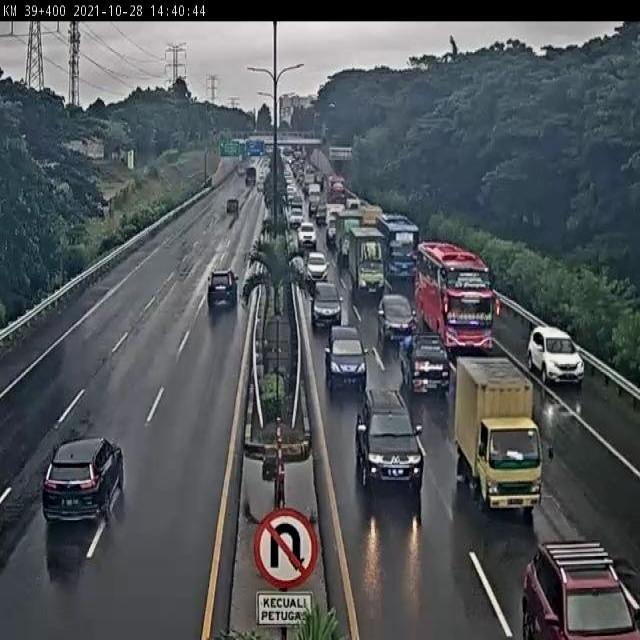Bus: (417, 239, 496, 355), (376, 214, 418, 282)
Car: (519, 538, 640, 640), (41, 436, 125, 526), (356, 389, 427, 492), (527, 322, 585, 387), (324, 326, 367, 397), (376, 294, 416, 352), (311, 280, 343, 330), (206, 271, 238, 309), (306, 250, 328, 280), (298, 221, 316, 247), (288, 205, 303, 229)
Truck: (456, 358, 540, 515), (345, 224, 386, 299), (336, 212, 364, 267)
